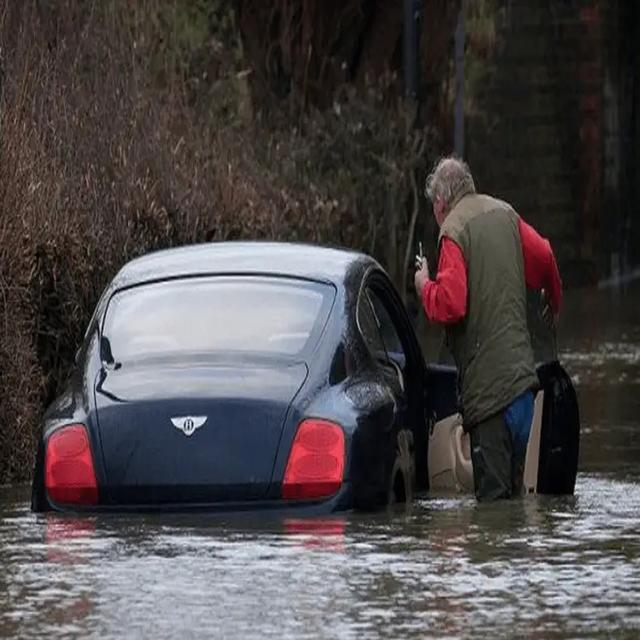Car-RiskLevel3: (26, 207, 580, 522)
Person-RiskLevel2: (398, 149, 590, 506)
